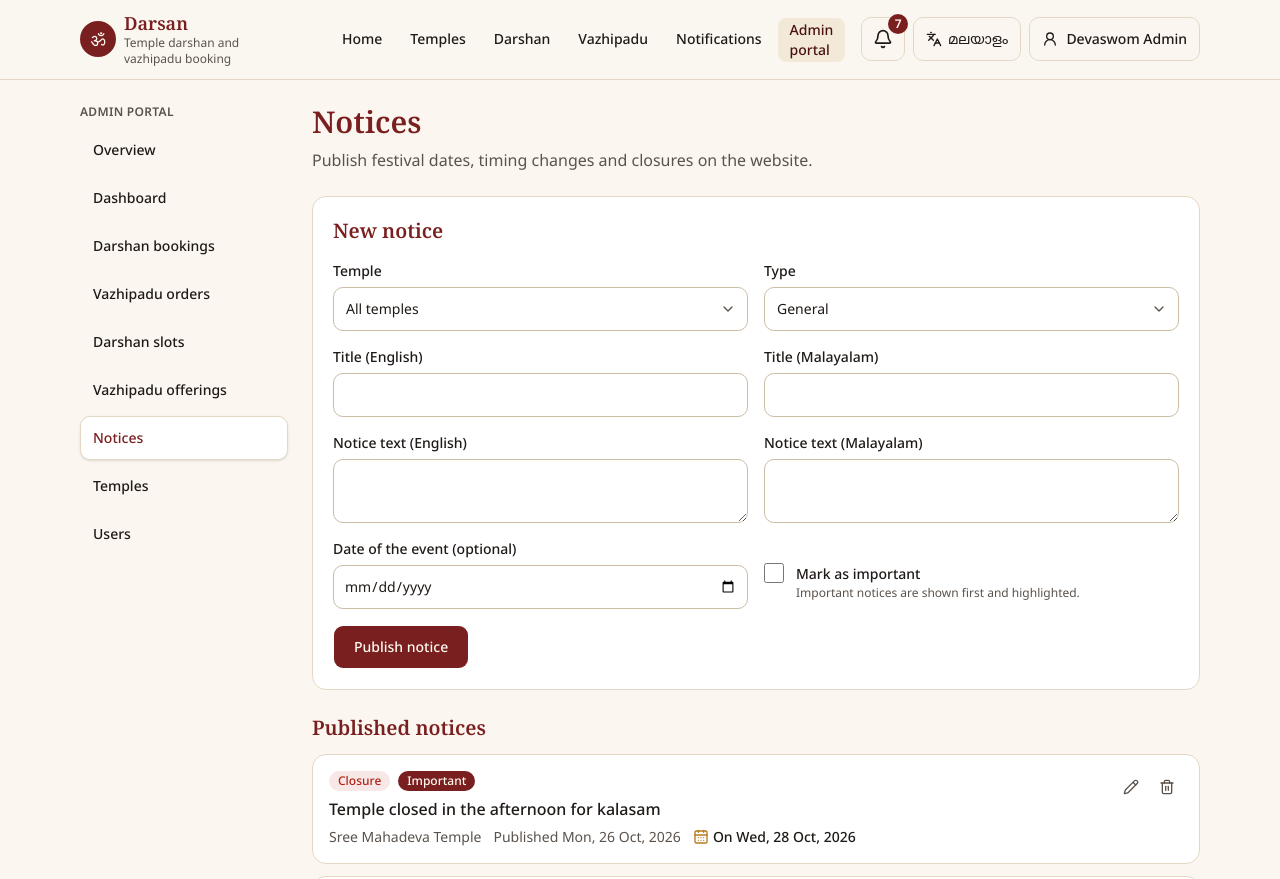
Test: Notices › shows a message for each missing field
The image size is (1280, 879).
Click the button "Publish notice" at (401, 646), box top-left (333, 624), bottom-right (469, 668)
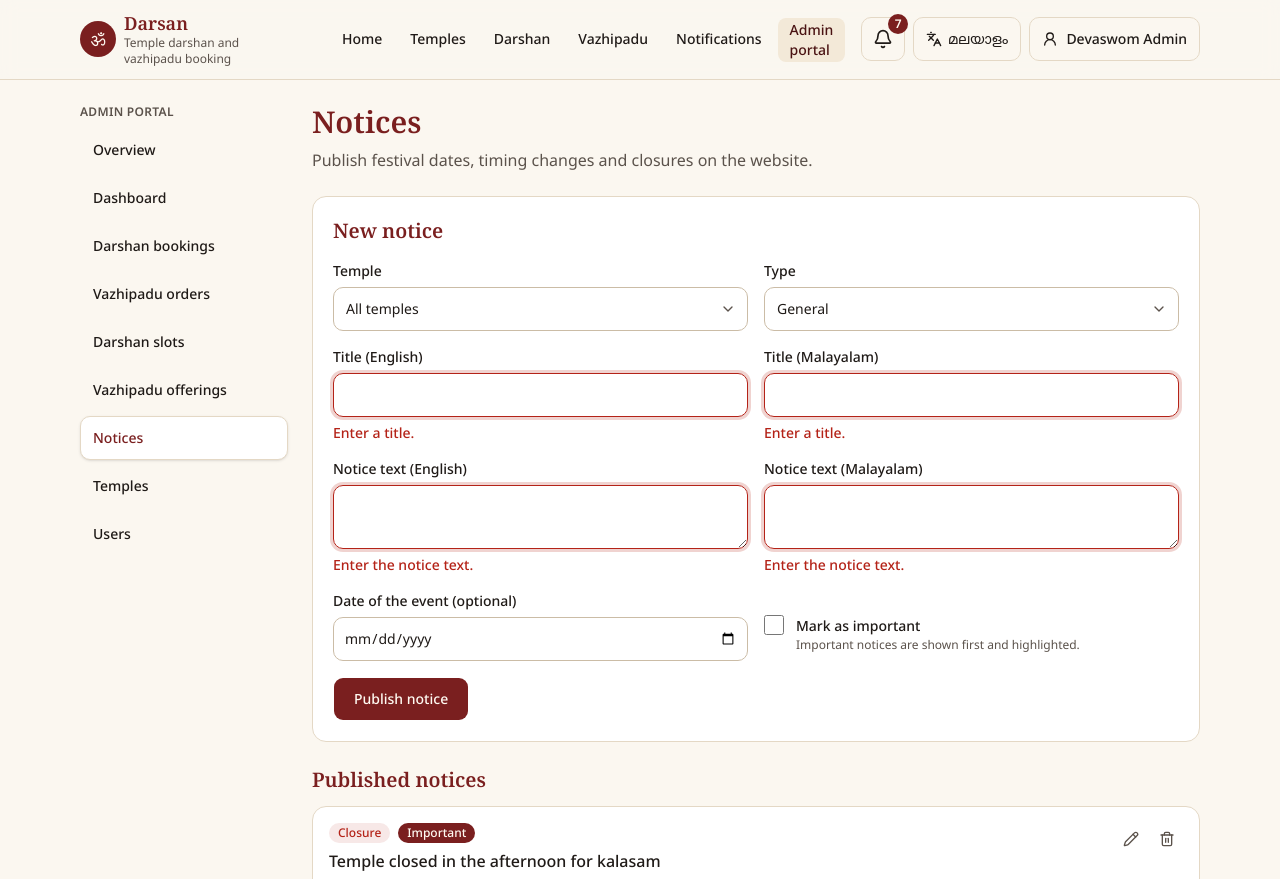
Check: the text "Enter a title." is shown 2 times, box top-left (333, 422), bottom-right (414, 442); top-left (764, 422), bottom-right (845, 442)
Check: the text "Enter the notice text." is shown 2 times, box top-left (333, 554), bottom-right (473, 574); top-left (764, 554), bottom-right (904, 574)
